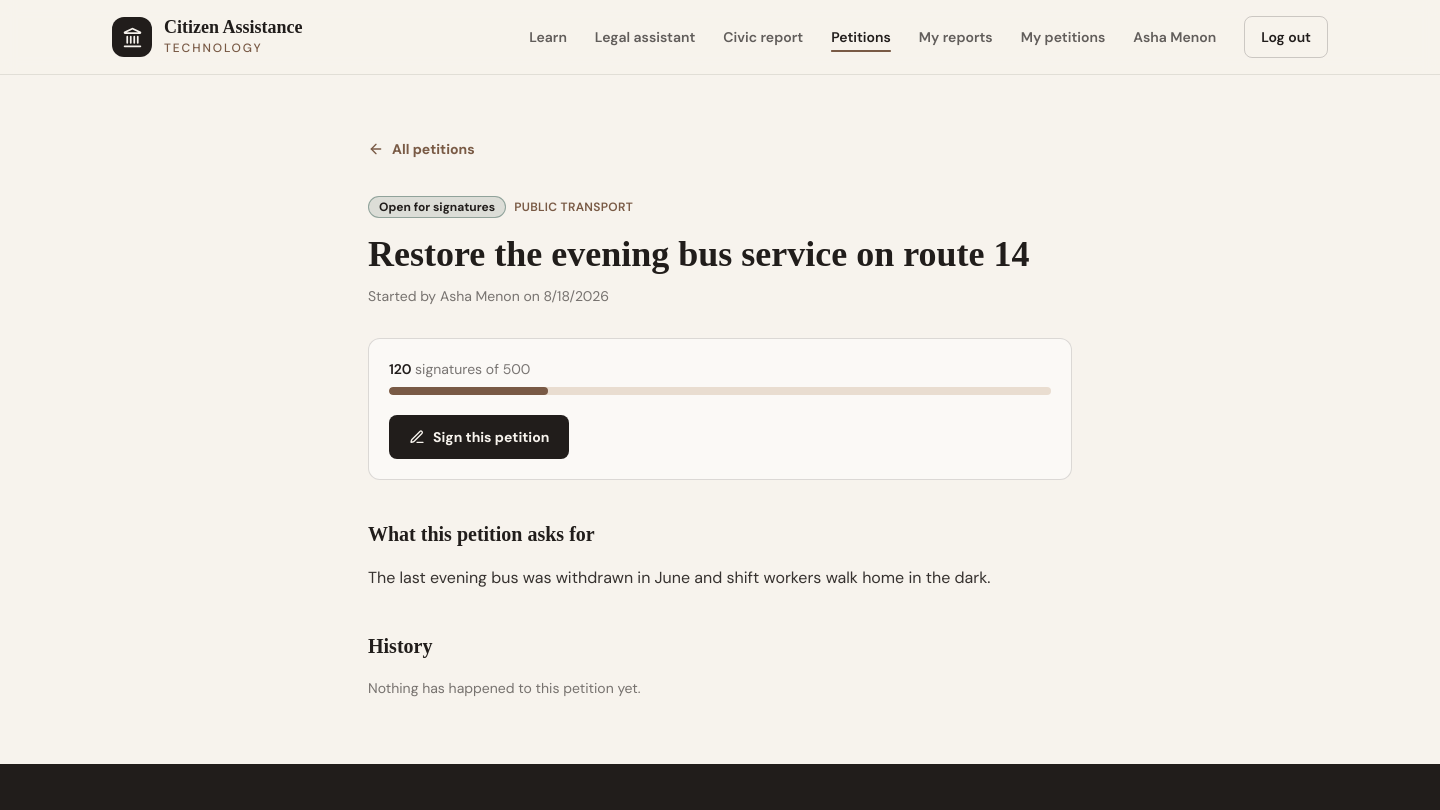
Test: PetitionDetailPage › lets a citizen sign and updates the count from the server response
Expected: the heading "Restore the evening bus service on route 14" is shown, x1=368 y1=234 x2=1072 y2=274
Click the button "Sign this petition" at [479, 437], box x1=389 y1=415 x2=569 y2=459
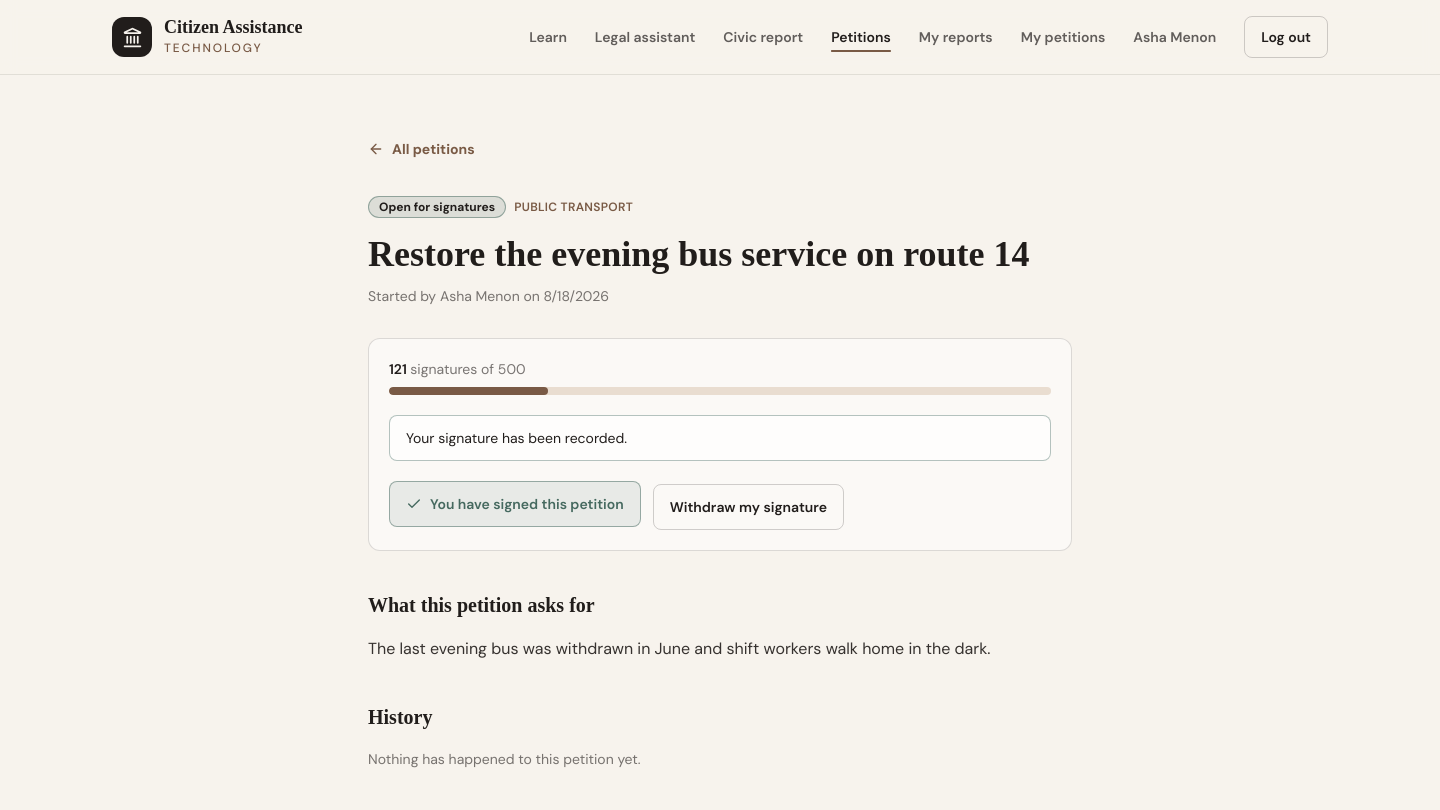
Result: the text "You have signed this petition" is shown at x1=389 y1=481 x2=641 y2=527
Result: the text "121 signatures of 500" is shown at x1=389 y1=359 x2=526 y2=379
Result: the message reads "Your signature has been recorded." at x1=406 y1=429 x2=627 y2=447
